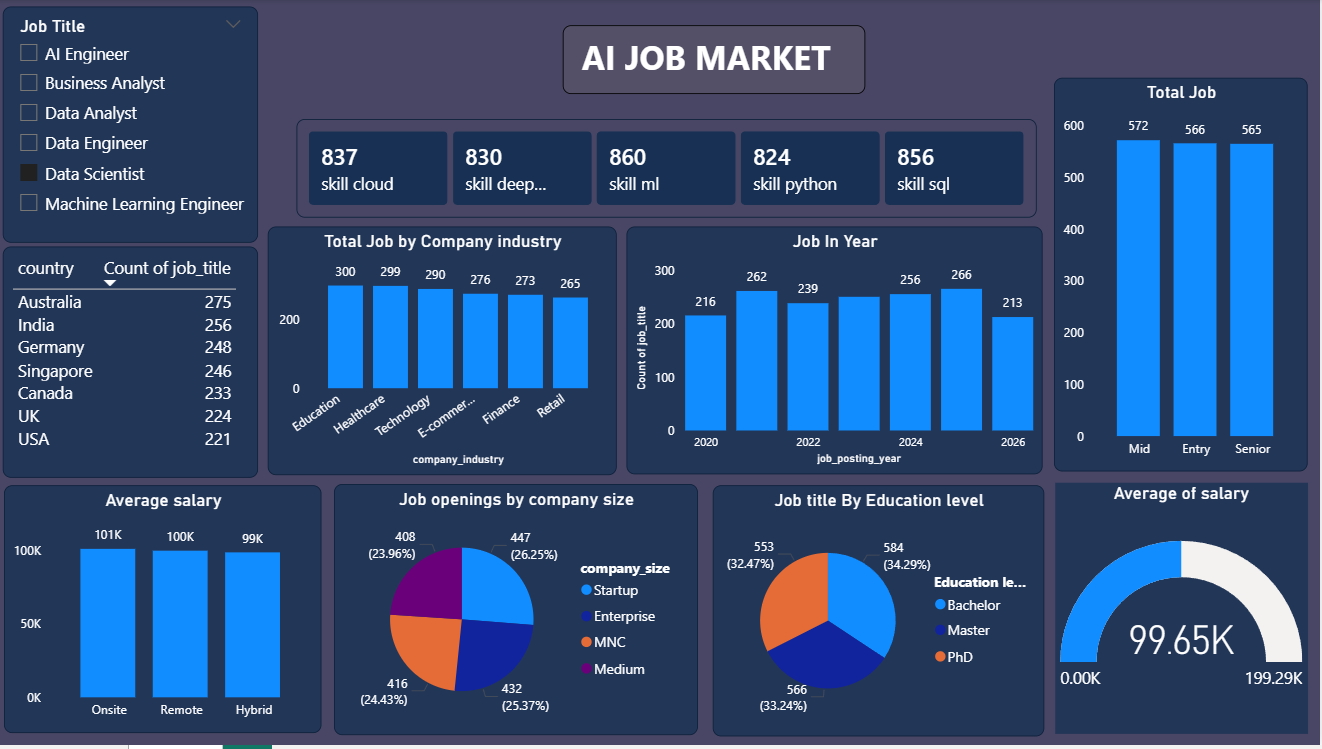

The dashboard page shown, as its layout file describes it:
{"tool":"powerbi","page":{"name":"Page 1","canvas":[1280,720],"ordinal":0},"visuals":[{"type":"slicer","fields":{"Values":["AI Job Market Dataset.job_title"]},"box":[8.4,7.2,246.1,228],"z":0},{"type":"gauge","fields":{"Y":["Avg(AI Job Market Dataset.salary)"]},"box":[1024.3,466.9,243.7,242.5],"z":1000},{"type":"columnChart","title":"Job In Year","fields":{"Category":["AI Job Market Dataset.job_posting_year"],"Y":["CountNonNull(AI Job Market Dataset.job_title)"]},"box":[610.5,219.6,401.7,238.9],"z":2000},{"type":"tableEx","title":"Job Title by Country","fields":{"Values":["AI Job Market Dataset.country","CountNonNull(AI Job Market Dataset.job_title)"]},"box":[8.4,238.9,246.1,223.2],"z":3000},{"type":"columnChart","title":"Total Job by Company industry","fields":{"Category":["AI Job Market Dataset.company_industry"],"Y":["CountNonNull(AI Job Market Dataset.job_title)"]},"box":[264.2,219.6,336.6,240.1],"z":4000},{"type":"columnChart","title":"Total Job","fields":{"Category":["AI Job Market Dataset.experience_level"],"Y":["CountNonNull(AI Job Market Dataset.job_title)"]},"box":[1023.1,76,244.9,380],"z":5000},{"type":"pieChart","title":"Job title By Education level","fields":{"Y":["CountNonNull(AI Job Market Dataset.job_title)"],"Category":["AI Job Market Dataset.education_level"]},"box":[693.7,469.3,319.7,242.5],"z":6000},{"type":"pieChart","title":"Job openings by company size","fields":{"Y":["CountNonNull(AI Job Market Dataset.job_openings)"],"Category":["AI Job Market Dataset.company_size"]},"box":[328.2,468.1,351.1,242.5],"z":7000},{"type":"columnChart","title":"Average salary ","fields":{"Y":["Avg(AI Job Market Dataset.salary)"],"Category":["AI Job Market Dataset.remote_type"]},"box":[9.7,469.3,306.4,238.9],"z":8000},{"type":"cardVisual","fields":{"Data":["AI Job Market Dataset.count cloud skill","AI Job Market Dataset.skill deep learning","AI Job Market Dataset.skill ml","AI Job Market Dataset.skill python","AI Job Market Dataset.skill sql"]},"box":[292,115.8,714.2,95.3],"z":9000},{"type":"textbox","box":[547.7,9.3,291.9,66.3],"z":10000}]}

Visuals, with their boxes in screenshot pixels (x1, y1, x2, y2), scaled from the page's 1280x720 canvas onto the 1322x749 screenshot:
slicer - AI Job Market Dataset.job_title: rect(9, 7, 263, 245)
gauge - Avg(AI Job Market Dataset.salary): rect(1058, 486, 1310, 738)
"Job In Year" columnChart: rect(631, 228, 1045, 477)
"Job Title by Country" tableEx: rect(9, 249, 263, 481)
"Total Job by Company industry" columnChart: rect(273, 228, 621, 478)
"Total Job" columnChart: rect(1057, 79, 1310, 474)
"Job title By Education level" pieChart: rect(716, 488, 1047, 740)
"Job openings by company size" pieChart: rect(339, 487, 702, 739)
"Average salary " columnChart: rect(10, 488, 326, 737)
cardVisual - AI Job Market Dataset.count cloud skill x AI Job Market Dataset.skill deep learning: rect(302, 120, 1039, 220)
textbox: rect(566, 10, 867, 79)
